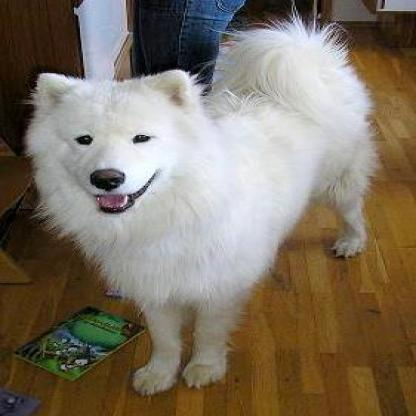Samoyed: (22, 10, 376, 394)
